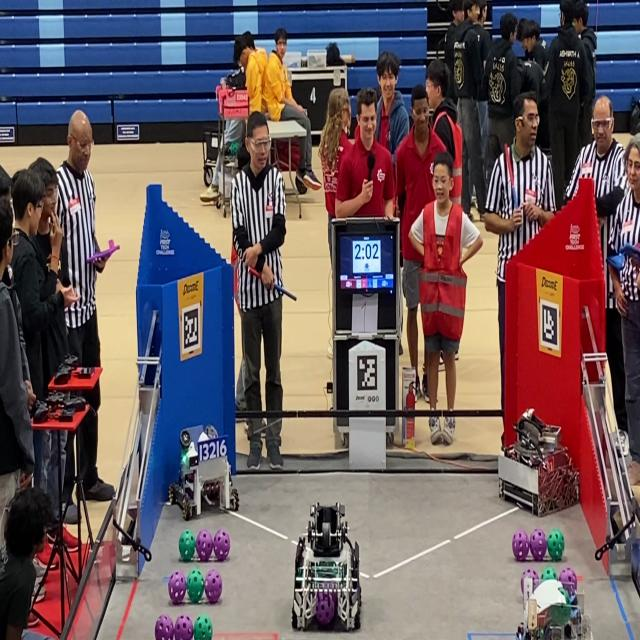artifact_green: (548, 588, 571, 626), (187, 569, 204, 603), (548, 529, 564, 561), (179, 530, 195, 561), (194, 615, 212, 639), (540, 567, 557, 581), (560, 588, 570, 604), (229, 142, 239, 155)
artifact_purple: (316, 592, 335, 626), (558, 567, 578, 596), (205, 569, 222, 603), (169, 572, 186, 605), (196, 530, 213, 561), (512, 530, 529, 561), (530, 529, 546, 561), (214, 529, 230, 561), (174, 615, 193, 639), (521, 568, 539, 593), (155, 615, 173, 639)
